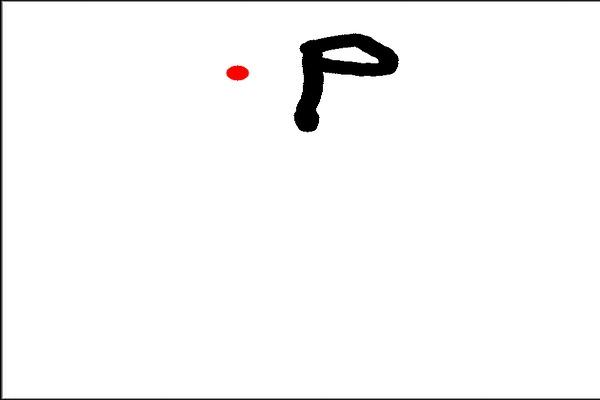P: (289, 28, 399, 140)
